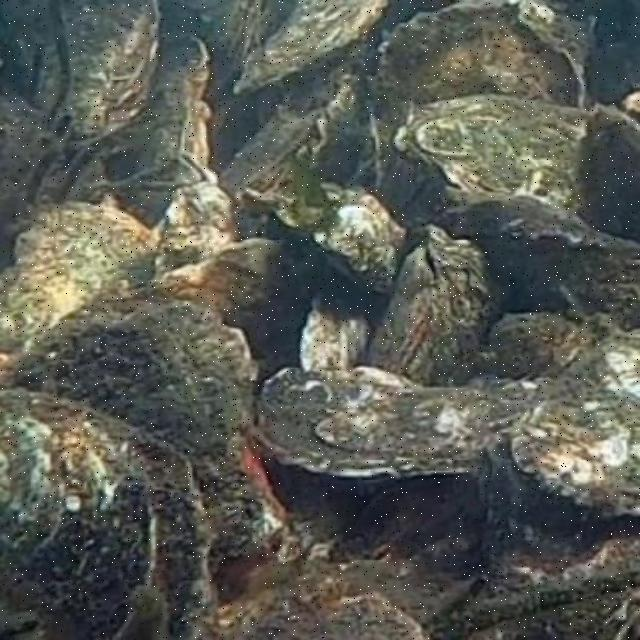Oyster-Closed: (0, 385, 214, 638), (16, 311, 258, 465), (254, 367, 532, 484), (0, 202, 171, 364), (393, 96, 595, 215), (381, 2, 587, 114), (513, 334, 638, 509), (117, 35, 209, 231), (61, 0, 169, 145), (240, 0, 390, 92), (312, 187, 414, 303)
Oyster-Open: (371, 235, 497, 380)
